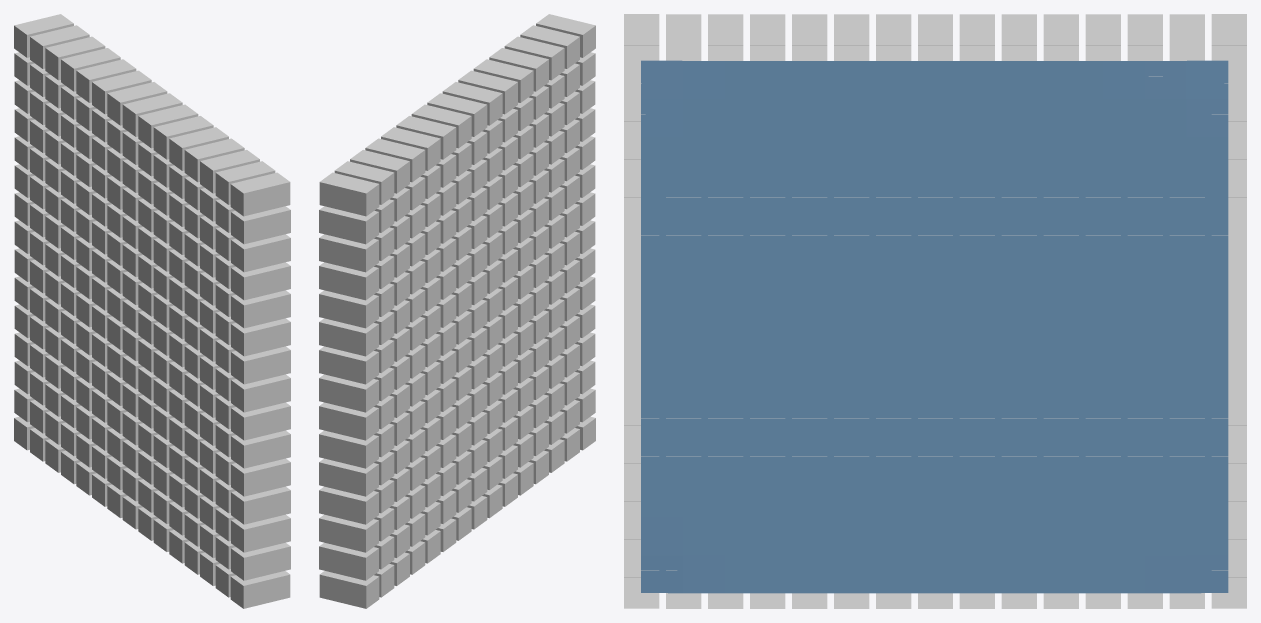
Rendered from bloom.fbx.
The picture shows the model from 3 angles, left to right: view 1: azimuth 30°, elevation 25°; view 2: azimuth 150°, elevation 25°; view 3: azimuth 270°, elevation 25°; orthographic projection. The views are drawn at different scales.
Visible parts, largest first — view 1: Plane|Cube|Dupli|1, Plane|Cube|Dupli|, Plane|Cube|Dupli|17, Plane|Cube|Dupli|19, Plane|Cube|Dupli|21, Plane|Cube|Dupli|23, Plane|Cube|Dupli|18, Plane|Cube|Dupli|22, Plane|Cube|Dupli|24, Plane|Cube|Dupli|25, Plane|Cube|Dupli|26, Plane|Cube|Dupli|20 (+213 smaller); view 2: Plane|Cube|Dupli|3, Plane|Cube|Dupli|2, Plane|Cube|Dupli|49, Plane|Cube|Dupli|51, Plane|Cube|Dupli|53, Plane|Cube|Dupli|55, Plane|Cube|Dupli|46, Plane|Cube|Dupli|47, Plane|Cube|Dupli|48, Plane|Cube|Dupli|50, Plane|Cube|Dupli|54, Plane|Cube|Dupli|44 (+213 smaller); view 3: Plane, Plane|Cube|Dupli|3, Plane|Cube|Dupli|1, Plane|Cube|Dupli|41, Plane|Cube|Dupli|30, Plane|Cube|Dupli|31, Plane|Cube|Dupli|32, Plane|Cube|Dupli|33, Plane|Cube|Dupli|34, Plane|Cube|Dupli|35, Plane|Cube|Dupli|37, Plane|Cube|Dupli|38 (+6 smaller).
Boxes of the visible parts, x1,y1,x2,y2 form: Plane|Cube|Dupli|1: (230, 172, 290, 216); Plane|Cube|Dupli|: (230, 571, 290, 608); Plane|Cube|Dupli|17: (231, 542, 290, 580); Plane|Cube|Dupli|19: (231, 486, 290, 524); Plane|Cube|Dupli|21: (231, 430, 290, 468); Plane|Cube|Dupli|23: (231, 374, 290, 412); Plane|Cube|Dupli|18: (231, 514, 290, 552); Plane|Cube|Dupli|22: (231, 402, 290, 440); Plane|Cube|Dupli|24: (231, 346, 290, 384); Plane|Cube|Dupli|25: (231, 318, 290, 356); Plane|Cube|Dupli|26: (231, 290, 290, 328); Plane|Cube|Dupli|20: (231, 458, 290, 496); Plane|Cube|Dupli|3: (319, 172, 379, 216); Plane|Cube|Dupli|2: (319, 571, 379, 608); Plane|Cube|Dupli|49: (319, 374, 378, 412); Plane|Cube|Dupli|51: (319, 430, 378, 468); Plane|Cube|Dupli|53: (319, 486, 378, 524); Plane|Cube|Dupli|55: (319, 542, 378, 580); Plane|Cube|Dupli|46: (319, 290, 378, 328); Plane|Cube|Dupli|47: (319, 318, 378, 356); Plane|Cube|Dupli|48: (319, 346, 378, 384); Plane|Cube|Dupli|50: (319, 402, 378, 440); Plane|Cube|Dupli|54: (319, 514, 378, 552); Plane|Cube|Dupli|44: (319, 234, 378, 272); Plane: (641, 60, 1228, 593); Plane|Cube|Dupli|3: (1211, 14, 1246, 76); Plane|Cube|Dupli|1: (624, 14, 659, 76); Plane|Cube|Dupli|41: (1127, 14, 1162, 76); Plane|Cube|Dupli|30: (666, 14, 701, 60); Plane|Cube|Dupli|31: (708, 14, 743, 60); Plane|Cube|Dupli|32: (750, 14, 785, 60); Plane|Cube|Dupli|33: (792, 14, 827, 60); Plane|Cube|Dupli|34: (834, 14, 869, 60); Plane|Cube|Dupli|35: (876, 14, 911, 60); Plane|Cube|Dupli|37: (959, 14, 994, 60); Plane|Cube|Dupli|38: (1001, 14, 1036, 60).
Bounding box in the file's own units: 202 × 1694 × 1696.
